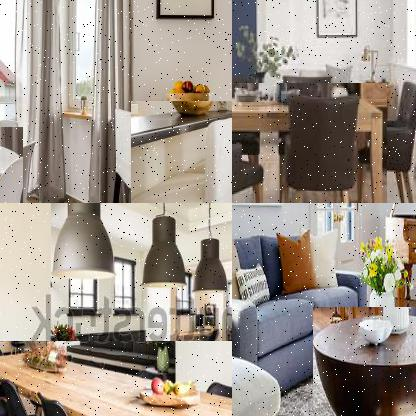table: (232, 82, 388, 202), (0, 340, 231, 415), (312, 307, 415, 415), (130, 101, 231, 202)
